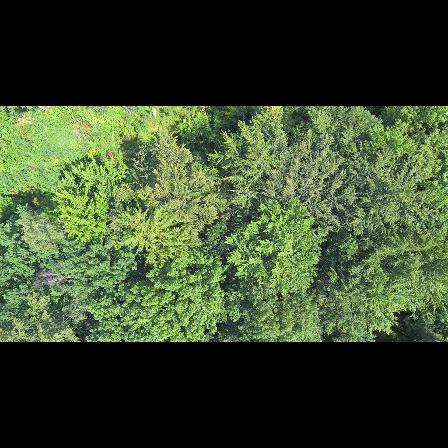Dead: (29, 267, 74, 294)
